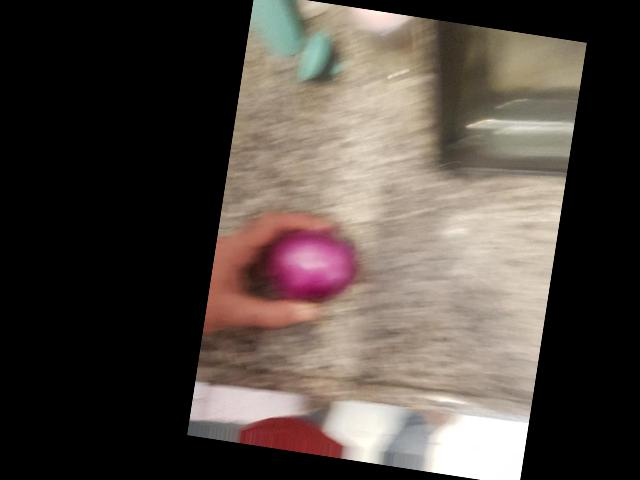onion: (436, 212, 522, 311)
